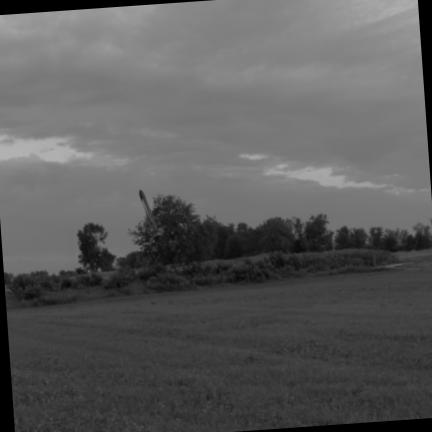Shahed: (139, 190, 160, 241)
